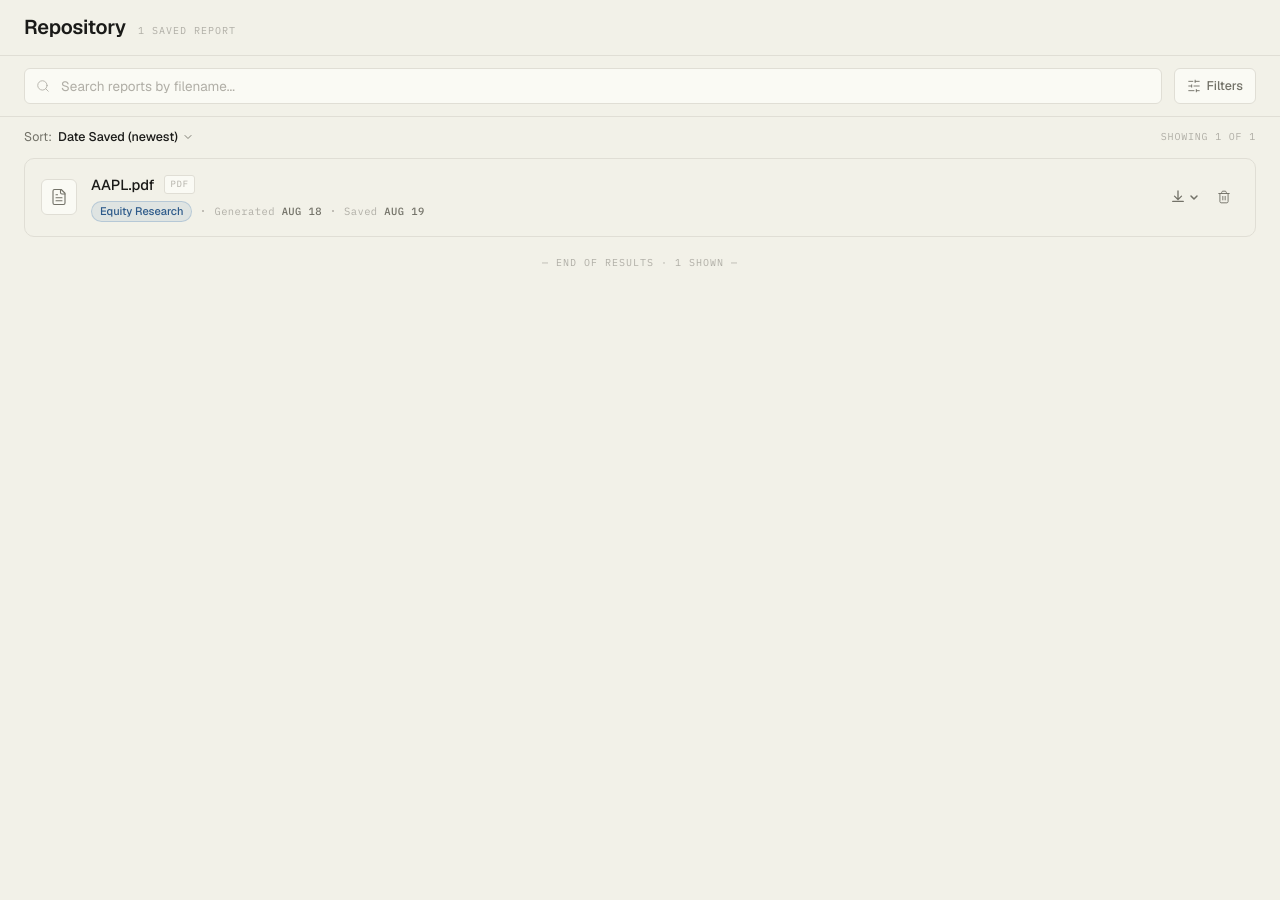
it: Repository page › opens remove dialog and removes row on confirm
Click the button named "Remove AAPL.pdf" at point(1224, 197), box [1209,182,1239,212]
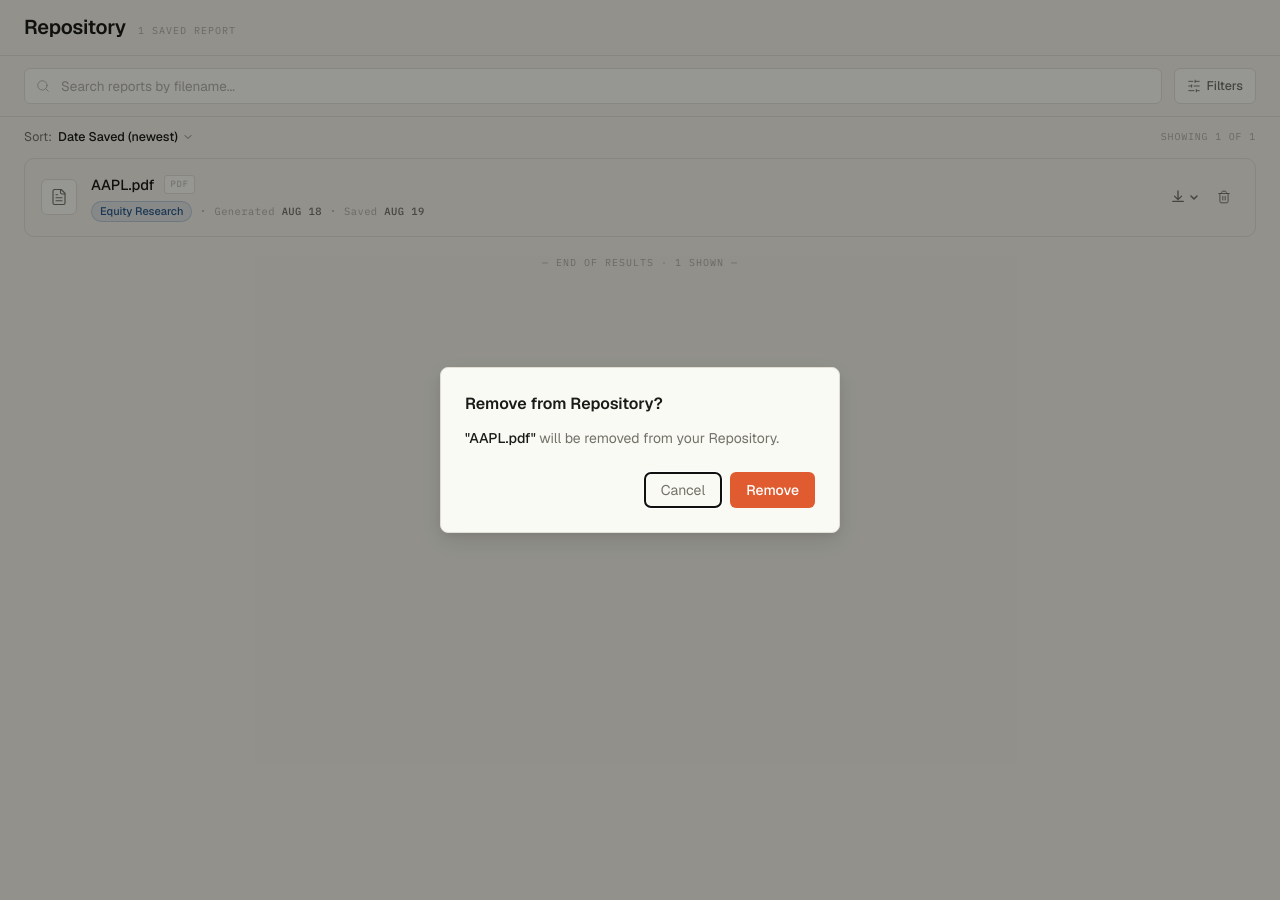
Now the dialog with test id "remove-confirm-dialog" is shown, box [440,367,840,533]
Click the button "Remove" at point(773, 490), box [730,472,815,508]
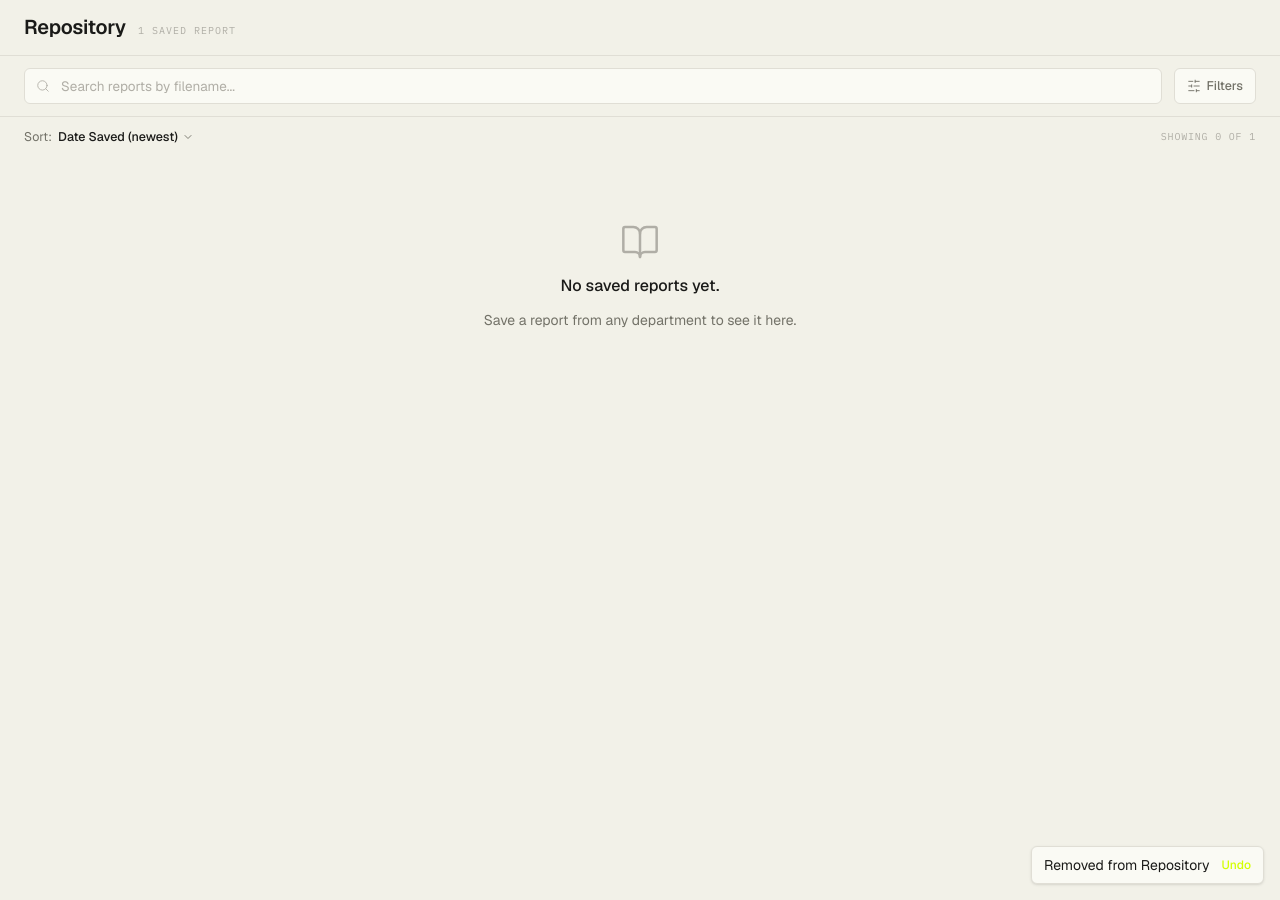
Now the button "AAPL.pdf" is gone
